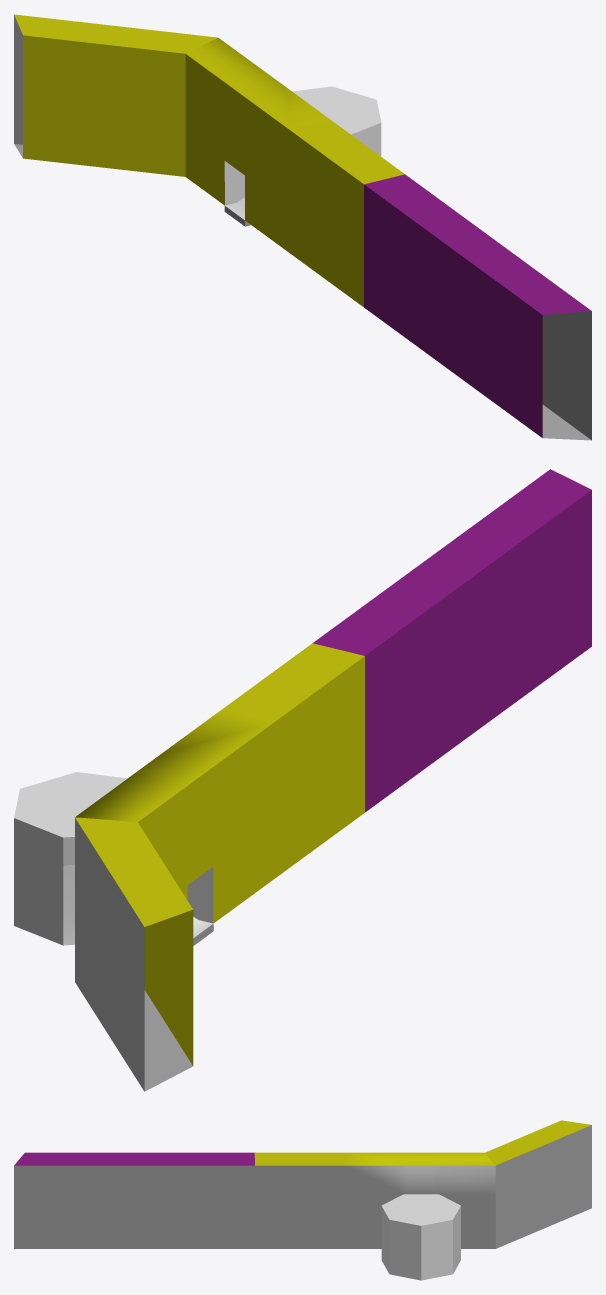
File: eastwall.fbx
The picture shows the model from 3 angles, top to bottom: view 1: azimuth 30°, elevation 25°; view 2: azimuth 150°, elevation 25°; view 3: azimuth 270°, elevation 25°; orthographic projection. The views are drawn at different scales.
Parts seen in each view (by area): view 1: East_wall_and_spawn; view 2: East_wall_and_spawn; view 3: East_wall_and_spawn.
Boxes of the visible parts, <box> form: East_wall_and_spawn: <box>14,14,591,440</box>; East_wall_and_spawn: <box>14,469,591,1091</box>; East_wall_and_spawn: <box>14,1120,591,1280</box>.
Size of the model in its own units: 41.59 by 21 by 132.
